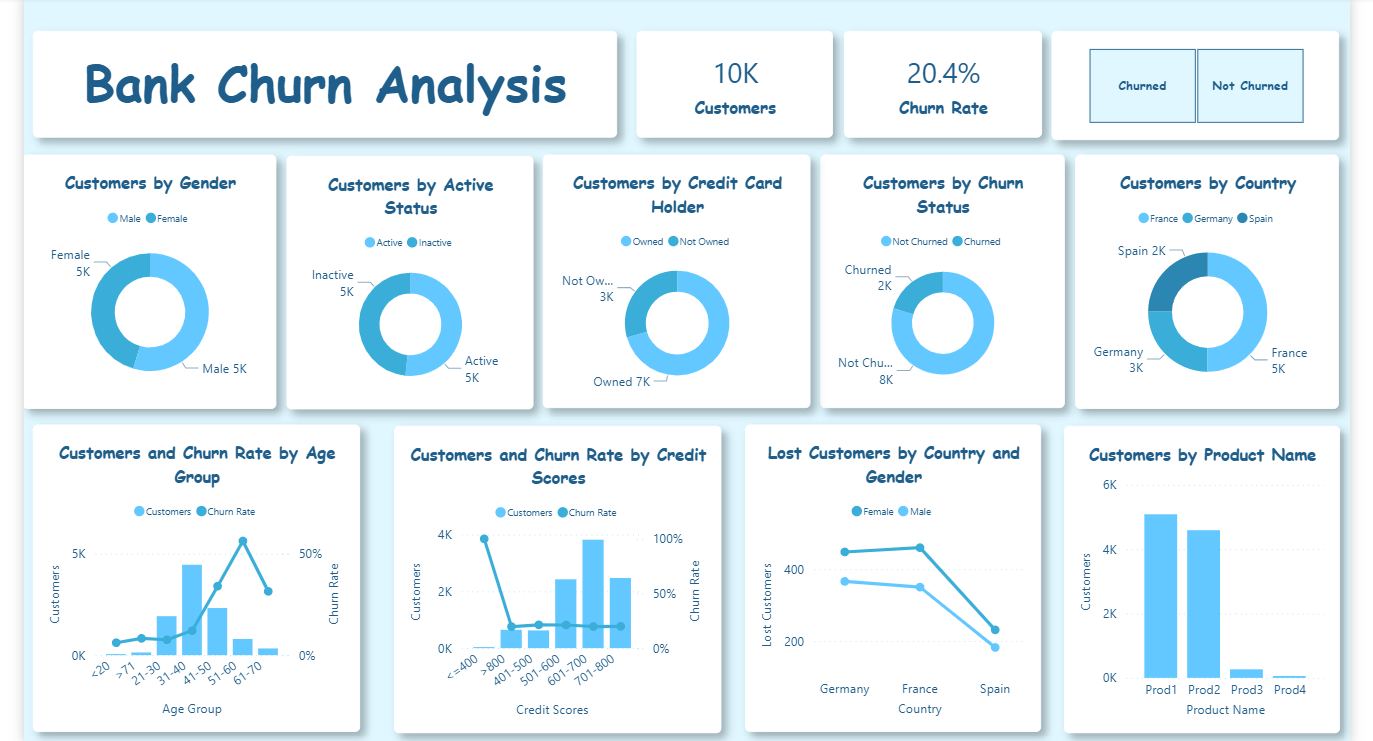

This screenshot's page, from the dashboard's own definition file:
{"tool":"powerbi","page":{"name":"Page 1","canvas":[1280,720],"ordinal":0},"visuals":[{"type":"card","fields":{"Values":["Calculated Measures.Customers"]},"box":[591,33.1,189.8,103.2],"z":0},{"type":"card","fields":{"Values":["Calculated Measures.Churn Rate"]},"box":[790.9,33.1,191,103.2],"z":1000},{"type":"donutChart","fields":{"Y":["Calculated Measures.Total Customers"],"Category":["Customer Data.Gender"]},"box":[-0.6,152.2,244.5,245.8],"z":2000},{"type":"donutChart","fields":{"Y":["Calculated Measures.Total Customers"],"Category":["Customer Data.Active Status"]},"box":[253.5,152.8,238.2,244.5],"z":3000},{"type":"donutChart","fields":{"Y":["Calculated Measures.Total Customers"],"Category":["Customer Data.Churn Status"]},"box":[768,151.6,235.6,244.5],"z":4000},{"type":"donutChart","fields":{"Y":["Calculated Measures.Total Customers"],"Category":["Customer Data.Credit Card Holder"]},"box":[500.5,151.6,258.5,244.5],"z":5000},{"type":"donutChart","fields":{"Y":["Calculated Measures.Total Customers"],"Category":["Customer Data.Country"]},"box":[1015.1,151.6,254.7,245.8],"z":6000},{"type":"slicer","fields":{"Values":["Customer Data.Churn Status"]},"box":[992.2,33.1,277.7,105.7],"z":7000},{"type":"lineClusteredColumnComboChart","fields":{"Y":["Calculated Measures.Customers"],"Category":["Age Group.Age Group"],"Y2":["Calculated Measures.Churn Rate"]},"box":[8.9,412.7,315.9,296.8],"z":8000},{"type":"lineClusteredColumnComboChart","fields":{"Y":["Calculated Measures.Customers"],"Y2":["Calculated Measures.Churn Rate"],"Category":["Credit Score Group.Credit Scores"]},"box":[356.6,413.9,315.9,296.8],"z":9000},{"type":"lineChart","fields":{"Category":["Customer Data.Country"],"Series":["Customer Data.Gender"],"Y":["Calculated Measures.Lost Customers"]},"box":[696.7,412.7,285.3,296.8],"z":10000},{"type":"columnChart","fields":{"Y":["Calculated Measures.Customers"],"Category":["Customer Data.Product Name"]},"box":[1003.6,413.9,266.2,296.8],"z":11000},{"type":"textbox","box":[8.9,33.1,564.2,103.2],"z":12000}]}

Visuals, with their boxes on the page's 1280x720 design canvas (x1, y1, x2, y2). These are canvas units, not pixel positions in the 1373x741 screenshot, which may show the page scaled, cropped or inside an application window:
card - Calculated Measures.Customers: (left=591, top=33, right=781, bottom=136)
card - Calculated Measures.Churn Rate: (left=791, top=33, right=982, bottom=136)
donutChart - Calculated Measures.Total Customers x Customer Data.Gender: (left=-1, top=152, right=244, bottom=398)
donutChart - Calculated Measures.Total Customers x Customer Data.Active Status: (left=254, top=153, right=492, bottom=397)
donutChart - Calculated Measures.Total Customers x Customer Data.Churn Status: (left=768, top=152, right=1004, bottom=396)
donutChart - Calculated Measures.Total Customers x Customer Data.Credit Card Holder: (left=500, top=152, right=759, bottom=396)
donutChart - Calculated Measures.Total Customers x Customer Data.Country: (left=1015, top=152, right=1270, bottom=397)
slicer - Customer Data.Churn Status: (left=992, top=33, right=1270, bottom=139)
lineClusteredColumnComboChart - Calculated Measures.Customers x Age Group.Age Group: (left=9, top=413, right=325, bottom=710)
lineClusteredColumnComboChart - Calculated Measures.Customers x Calculated Measures.Churn Rate: (left=357, top=414, right=672, bottom=711)
lineChart - Customer Data.Country x Customer Data.Gender: (left=697, top=413, right=982, bottom=710)
columnChart - Calculated Measures.Customers x Customer Data.Product Name: (left=1004, top=414, right=1270, bottom=711)
textbox: (left=9, top=33, right=573, bottom=136)
